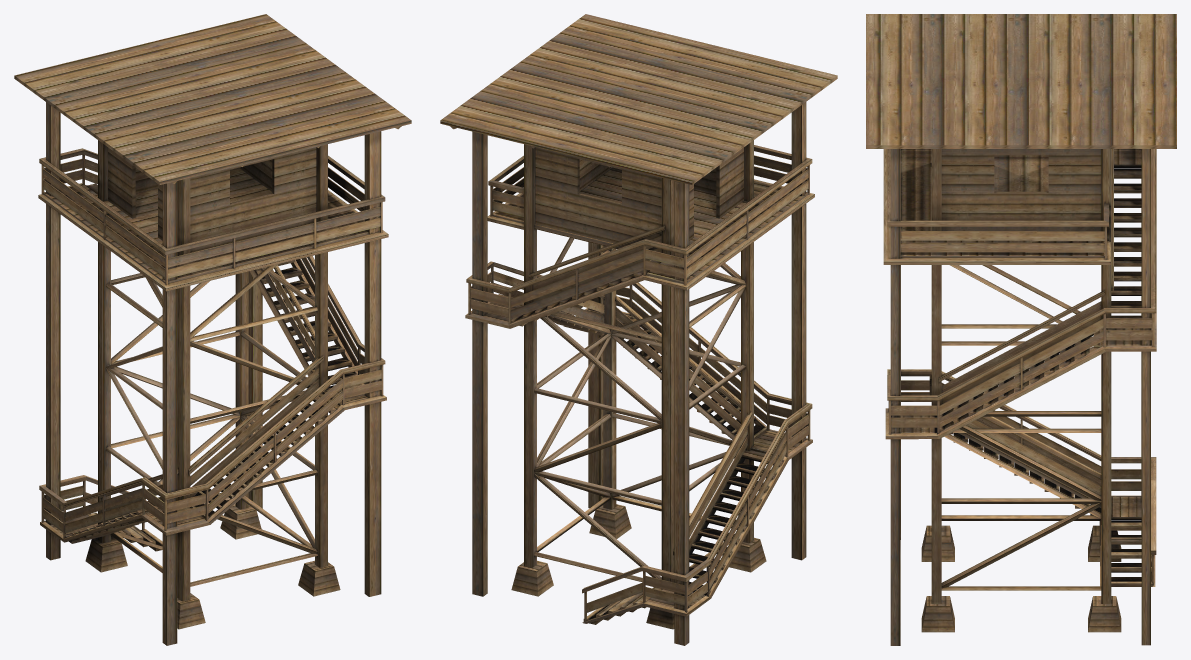
File: wooden_watch_tower2.obj
3 renders of one model, left to right at view 1: azimuth 30°, elevation 25°; view 2: azimuth 150°, elevation 25°; view 3: azimuth 270°, elevation 25°, orthographic. The views are drawn at different scales.
Parts seen in each view (by area): view 1: watchtowerHigh_watchtower; view 2: watchtowerHigh_watchtower; view 3: watchtowerHigh_watchtower.
Part boxes in pixels (bbox=[...]): watchtowerHigh_watchtower: bbox=[14, 14, 411, 645]; watchtowerHigh_watchtower: bbox=[440, 14, 837, 645]; watchtowerHigh_watchtower: bbox=[866, 14, 1176, 645].
Bounding box in the file's own units: 4.22 × 7.65 × 4.22.
Materials: 1 (1 with a texture image).
